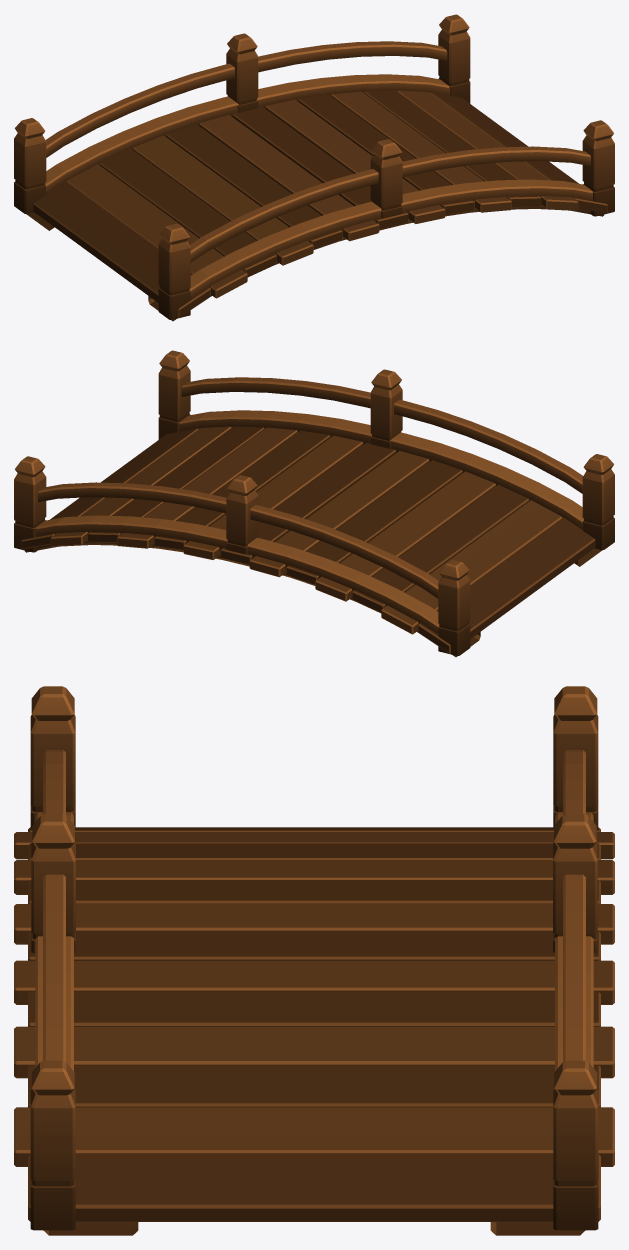
File: Bridge-2.fbx
3 renders of one model, top to bottom at view 1: azimuth 30°, elevation 25°; view 2: azimuth 150°, elevation 25°; view 3: azimuth 270°, elevation 25°, orthographic. The views are drawn at different scales.
Visible parts, largest first — view 1: Bridge-2; view 2: Bridge-2; view 3: Bridge-2.
Boxes of the visible parts, x1,y1,x2,y2 form: Bridge-2: [14, 14, 614, 321]; Bridge-2: [14, 350, 614, 657]; Bridge-2: [14, 686, 614, 1235].
Bounding box in the file's own units: 747 × 202 × 482.
